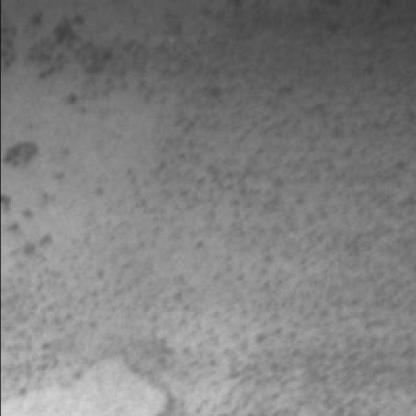pitted_surface: (14, 14, 406, 260), (2, 235, 408, 416)
